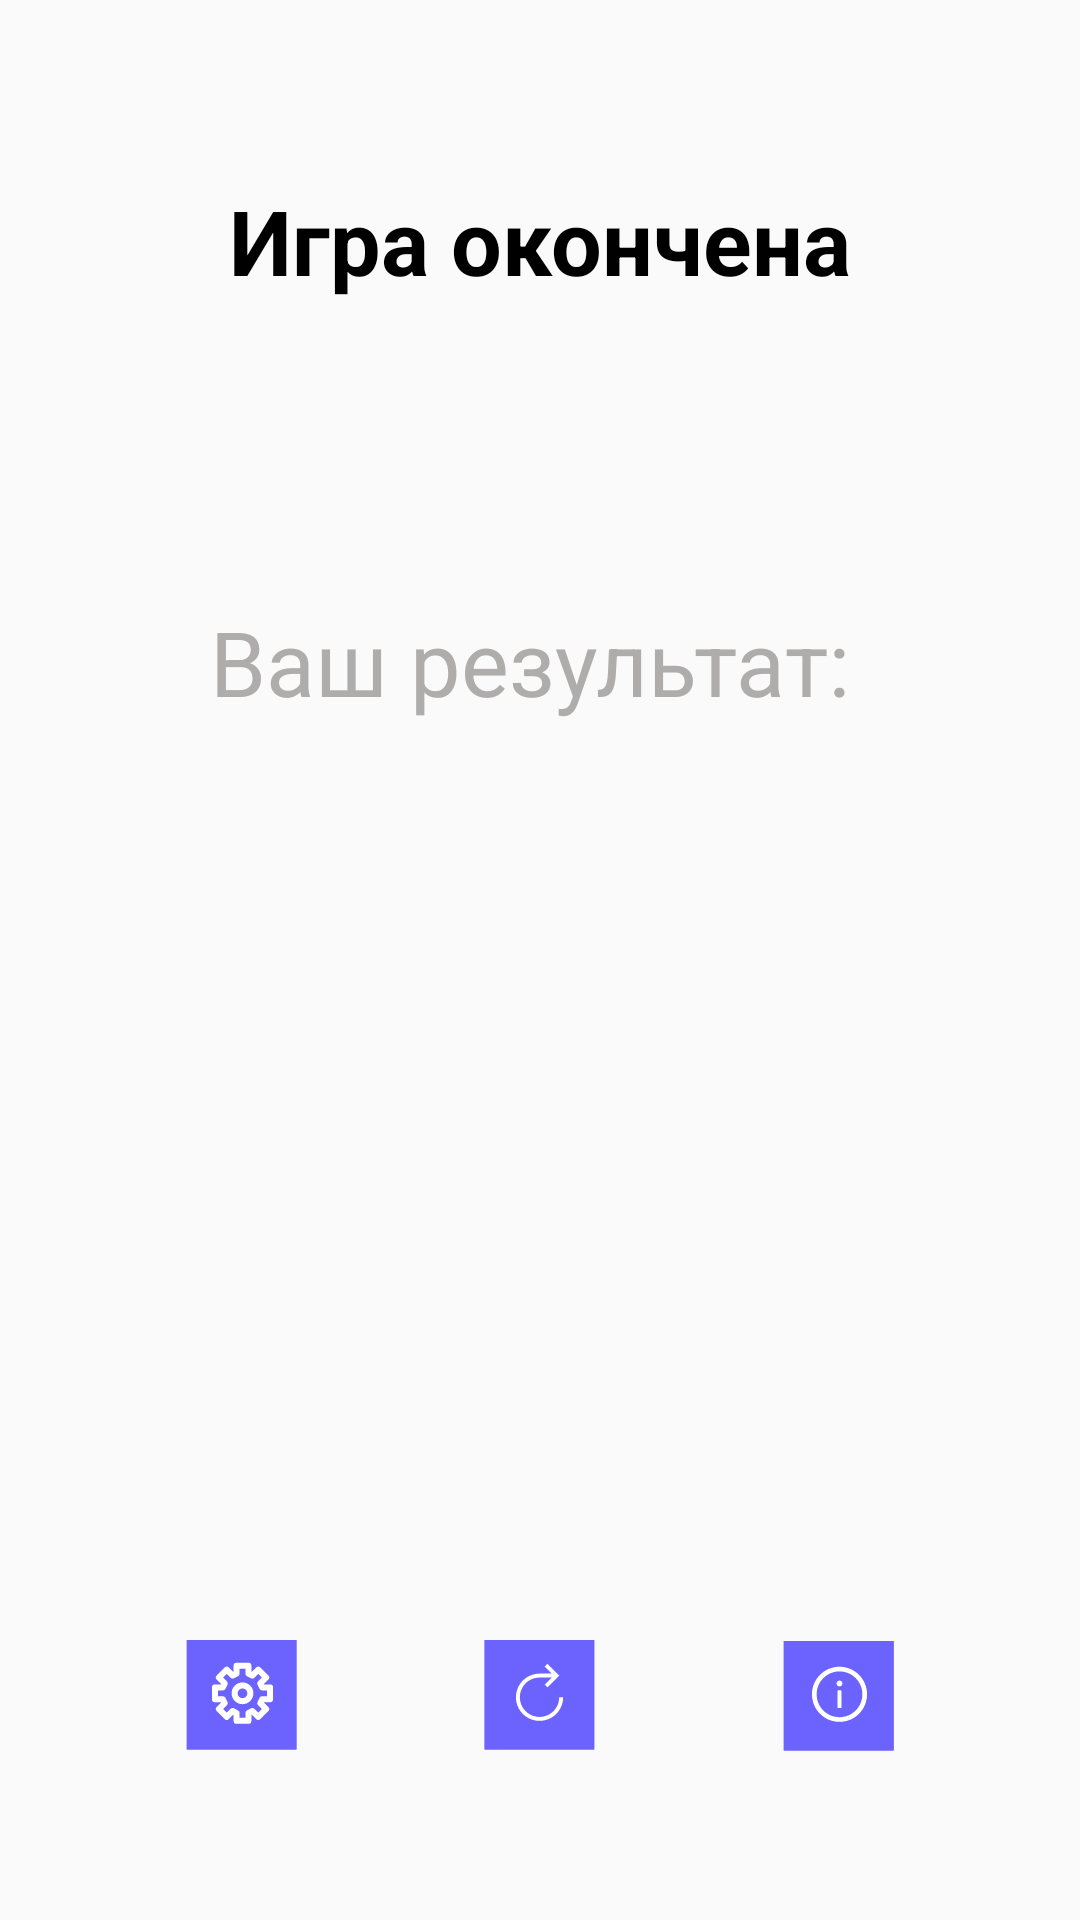

Icons on this 1080w x 1920h Android screen, each with the point to tap as [x,y]:
info: [838,1696]
restart: [539,1695]
settings: [241,1695]
